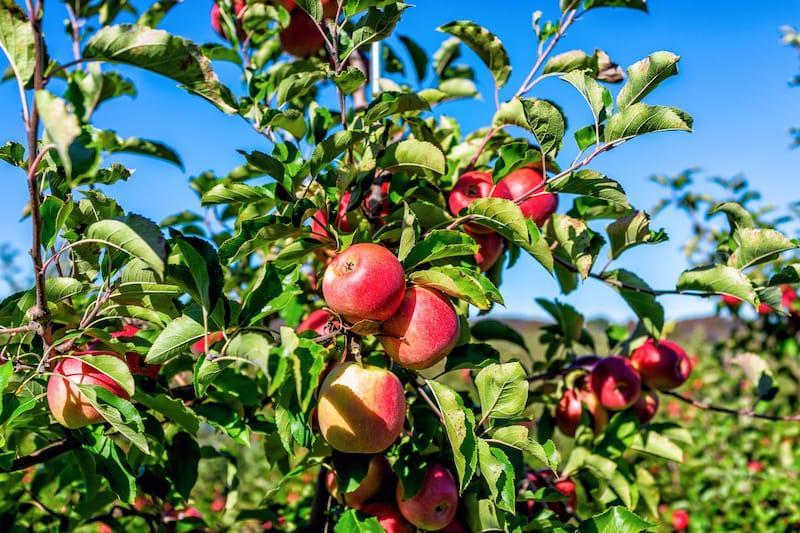apple: (319, 361, 405, 452), (320, 241, 406, 319), (47, 351, 131, 430), (385, 285, 459, 372), (493, 169, 556, 224), (632, 340, 693, 390), (591, 358, 642, 411)
